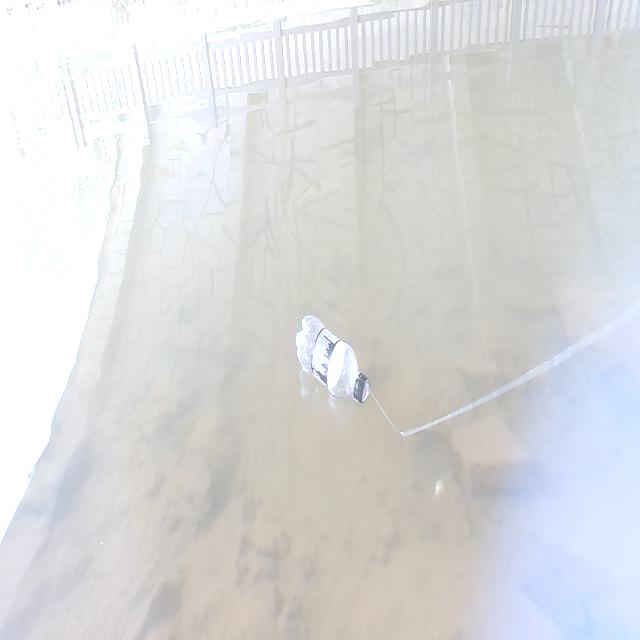bottle: (281, 289, 379, 417)
